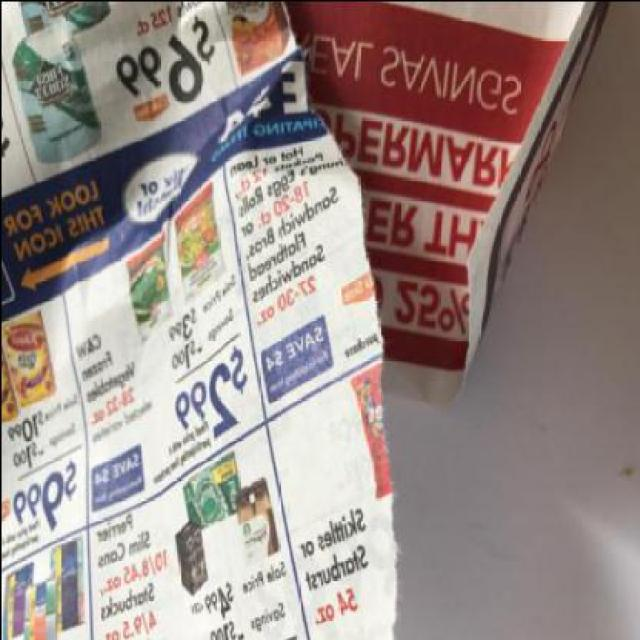PAPER: (1, 0, 395, 638), (277, 2, 606, 404)
